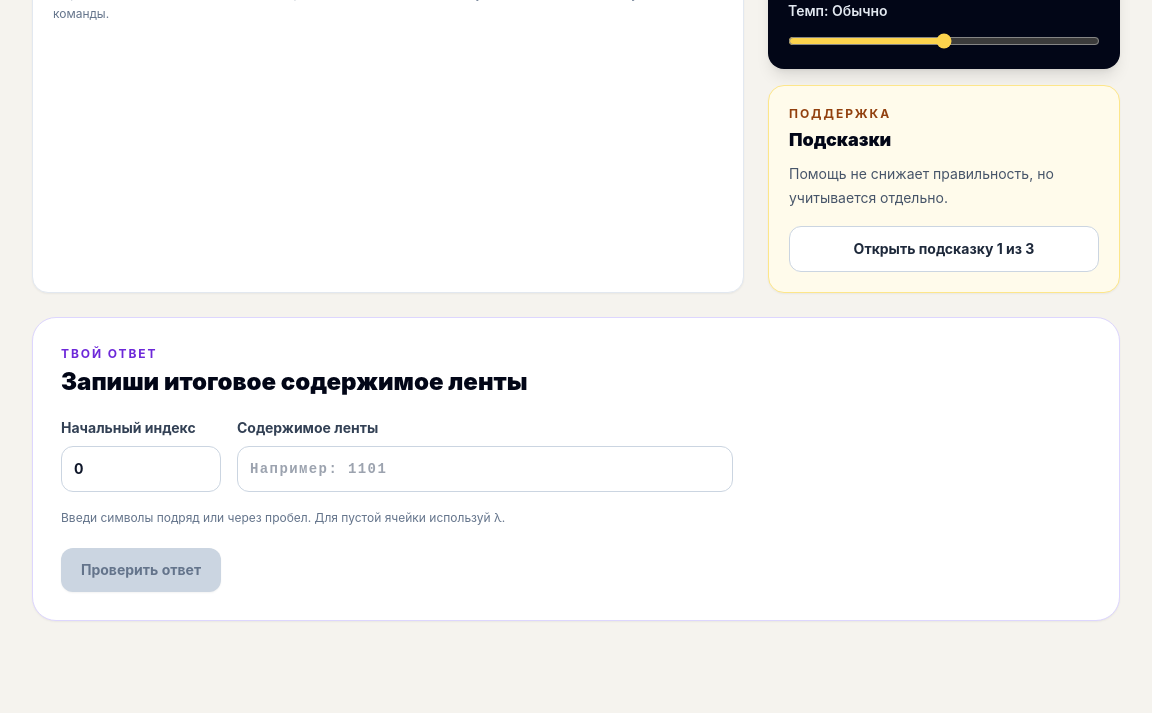
it: экран учебной задачи › принимает итоговый фрагмент ленты с абсолютным начальным индексом
(page scrolled)
Expected: the number field named "Начальный индекс ответа" holds "0", [61,446,221,492]
Type "1101001100101102" into the field named "Содержимое ленты в ответе" at (485, 468), box [237,446,733,492]
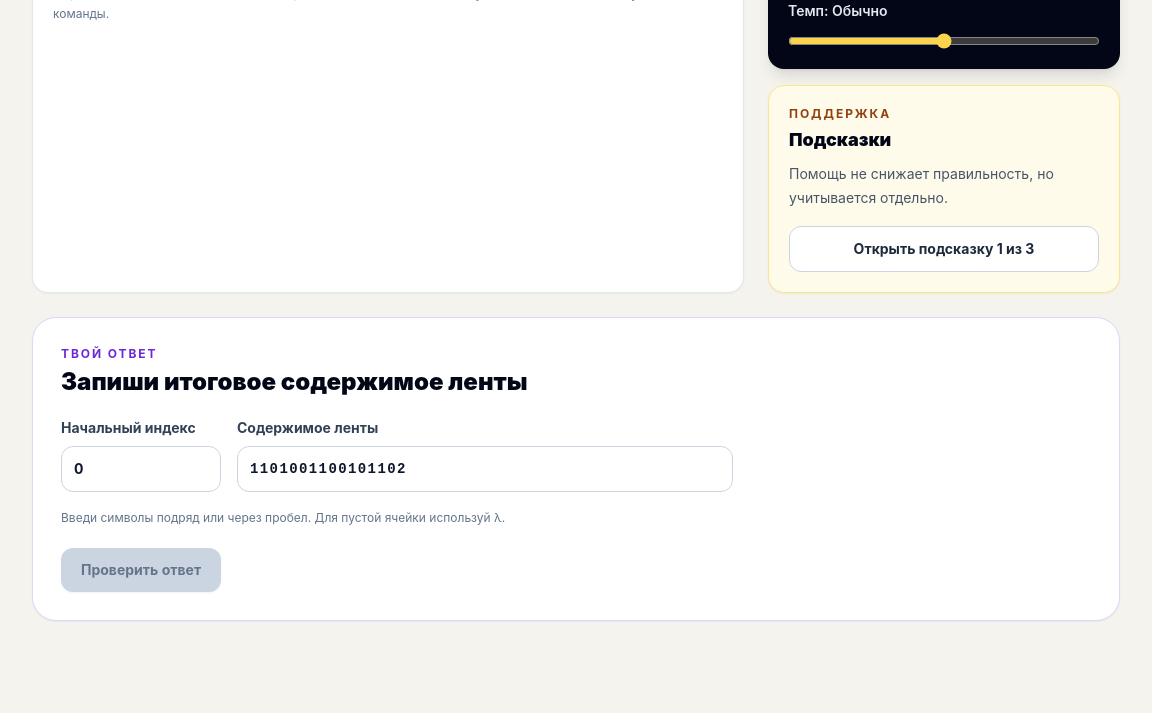
Expected: the button "Проверить ответ" is disabled, [61,548,221,592]
Replace the text in the field named "Содержимое ленты в ответе" with "1101 0011 0010 1101" at (485, 468), box [237,446,733,492]
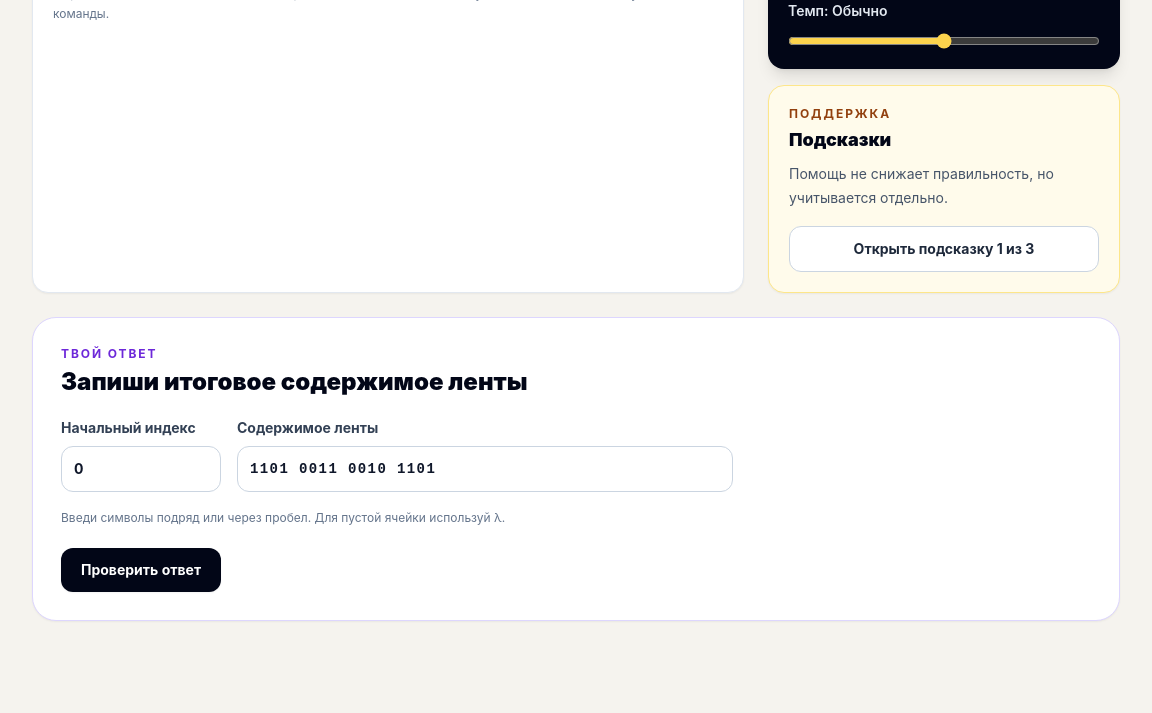
Expected: the button "Проверить ответ" is enabled
Click the button "Проверить ответ" at (141, 570), box [61,548,221,592]
(page scrolled)
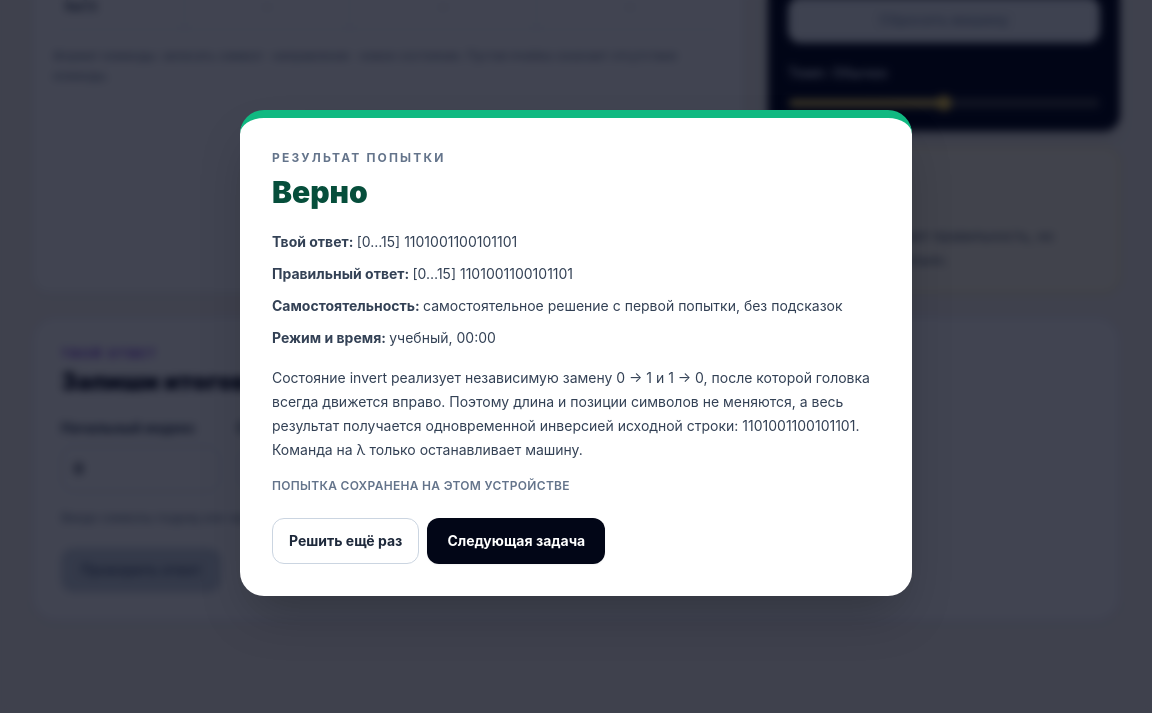
Expected: the message shows "Верно", [272,174,368,210]
Expected: the message shows "[0…15] 1101001100101101", [357,233,517,250]
